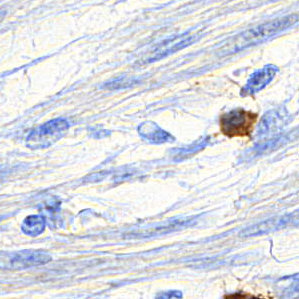Lymphocyte: (218, 108, 260, 140)
